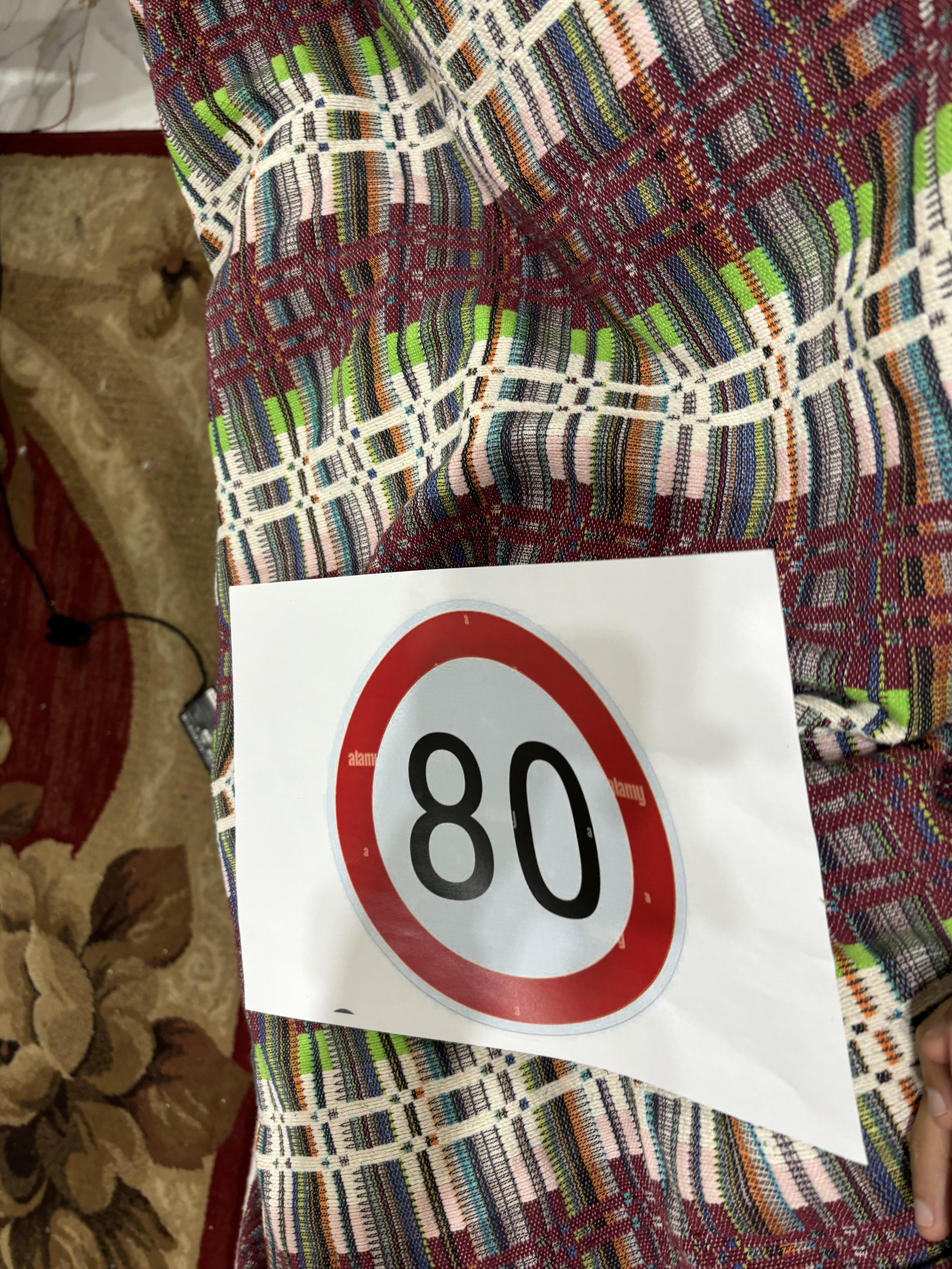80-Speed: (327, 594, 689, 1043)
